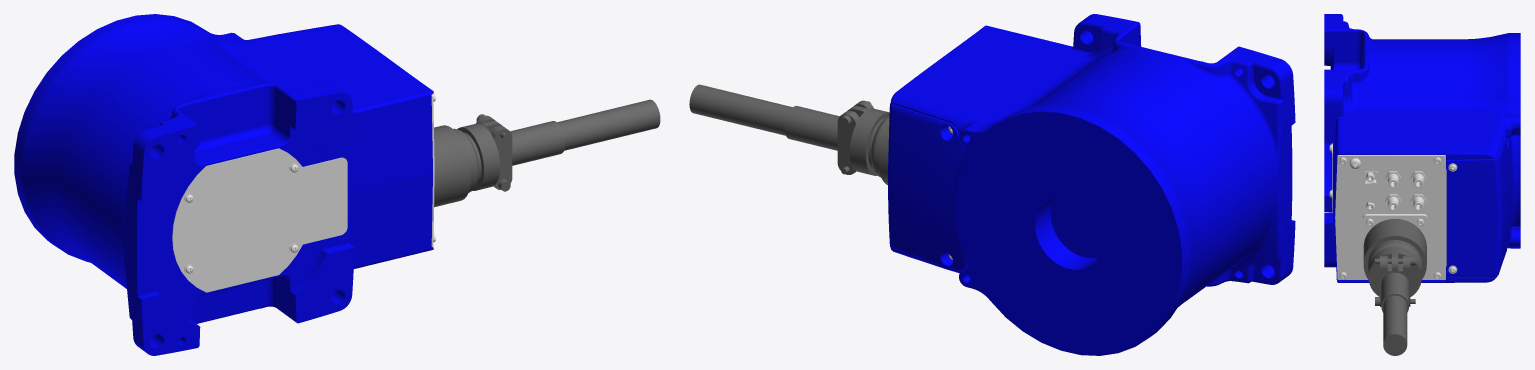
3 renders of one model, left to right at view 1: azimuth 30°, elevation 25°; view 2: azimuth 150°, elevation 25°; view 3: azimuth 270°, elevation 25°, orthographic. The views are drawn at different scales.
Parts seen in each view (by area): view 1: 410590-0170-c001; view 2: 410590-0170-c001; view 3: 410590-0170-c001.
Part boxes in pixels (x1=…): 410590-0170-c001: x1=14, y1=14, x2=660, y2=355; 410590-0170-c001: x1=689, y1=14, x2=1295, y2=355; 410590-0170-c001: x1=1324, y1=14, x2=1520, y2=355.
Bounding box in the file's own units: 0.4188 × 0.155 × 0.1696.
